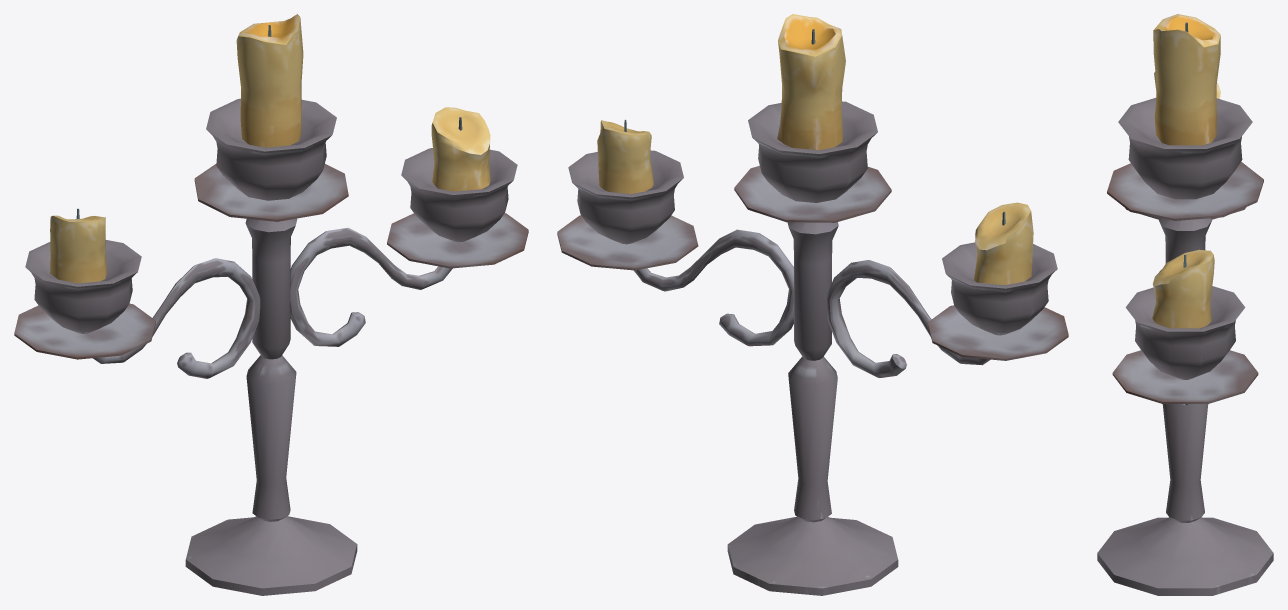
Rendered from CandleStick_Triple.gltf.
3 renders of one model, left to right at view 1: azimuth 30°, elevation 25°; view 2: azimuth 150°, elevation 25°; view 3: azimuth 270°, elevation 25°, orthographic.
Parts seen in each view (by area): view 1: CandleStick_Triple; view 2: CandleStick_Triple; view 3: CandleStick_Triple.
Boxes of the visible parts, x1,y1,x2,y2 form: CandleStick_Triple: (14, 14, 528, 595); CandleStick_Triple: (557, 14, 1068, 595); CandleStick_Triple: (1097, 14, 1273, 595).
Size of the model in its own units: 0.4423 by 0.4633 by 0.1364.
2 materials, 2 textured.
